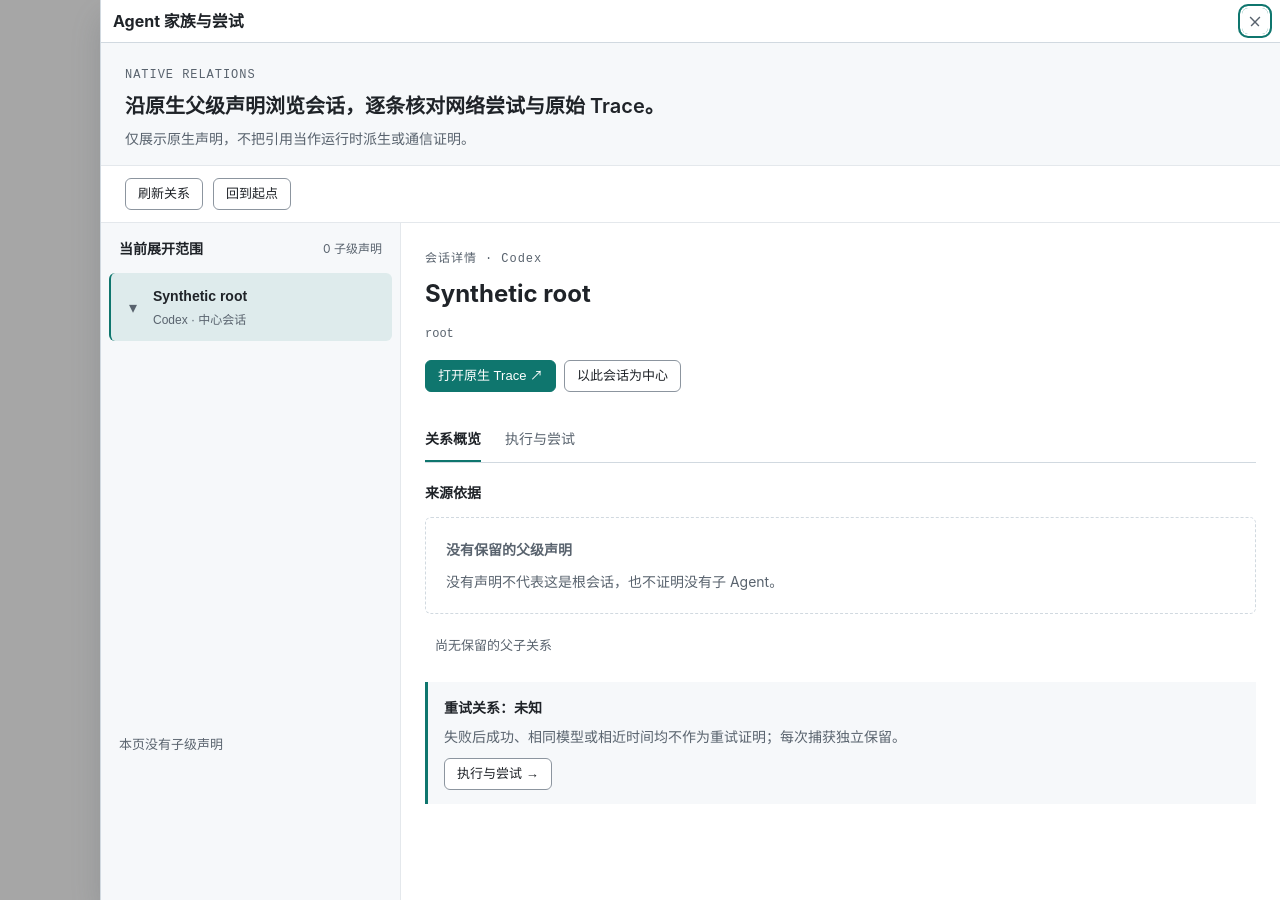
Test: family drawer user journey › shows a complete empty/unknown flow rather than inventing a root or retry
The width and height of the screenshot is (1280, 900).
Click the tab "执行与尝试": (540, 439) [505, 416, 575, 462]
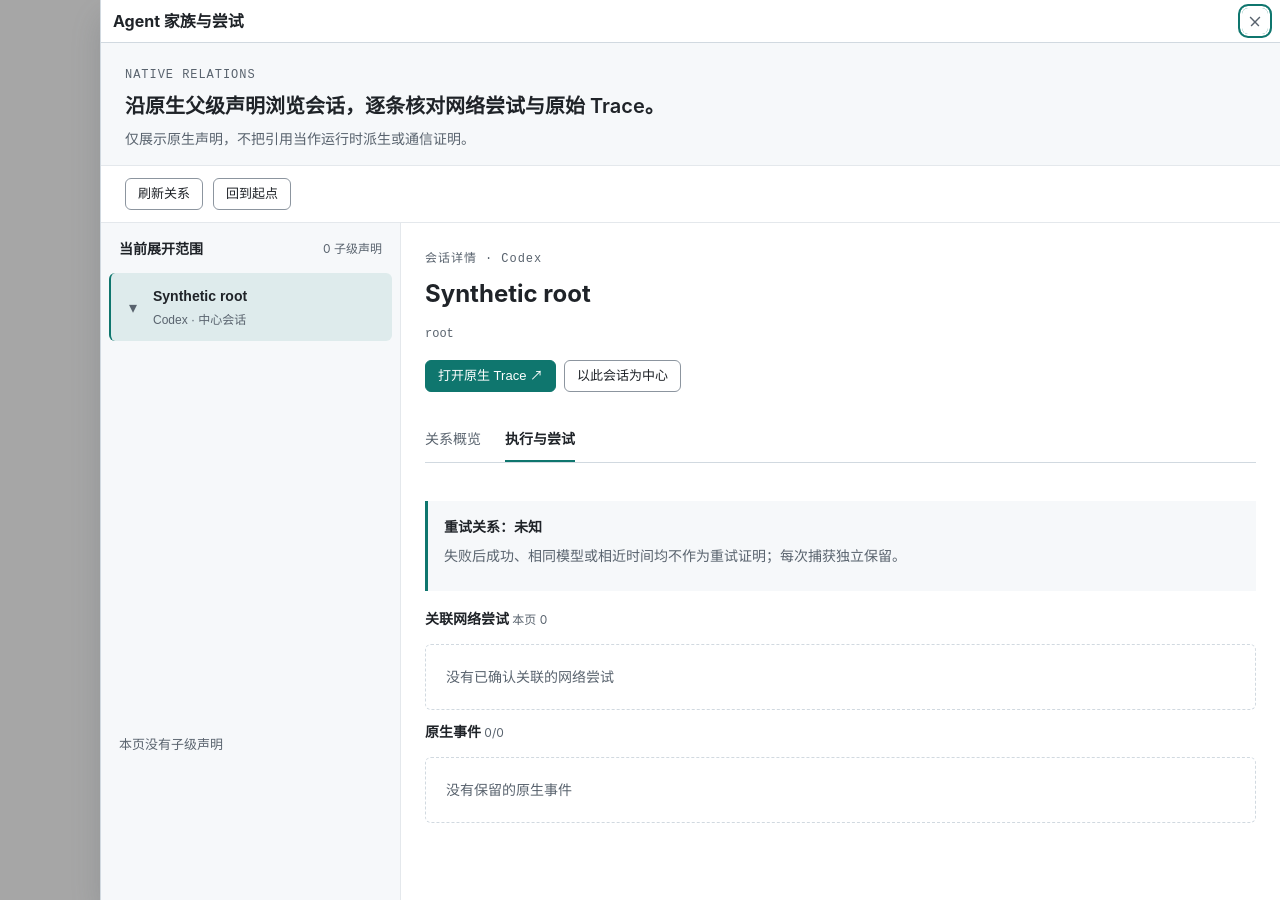
Expected: the text "重试关系：未知" is shown, [444, 518, 542, 535]
Expected: the text "没有已确认关联的网络尝试" is shown, [425, 644, 1256, 710]
